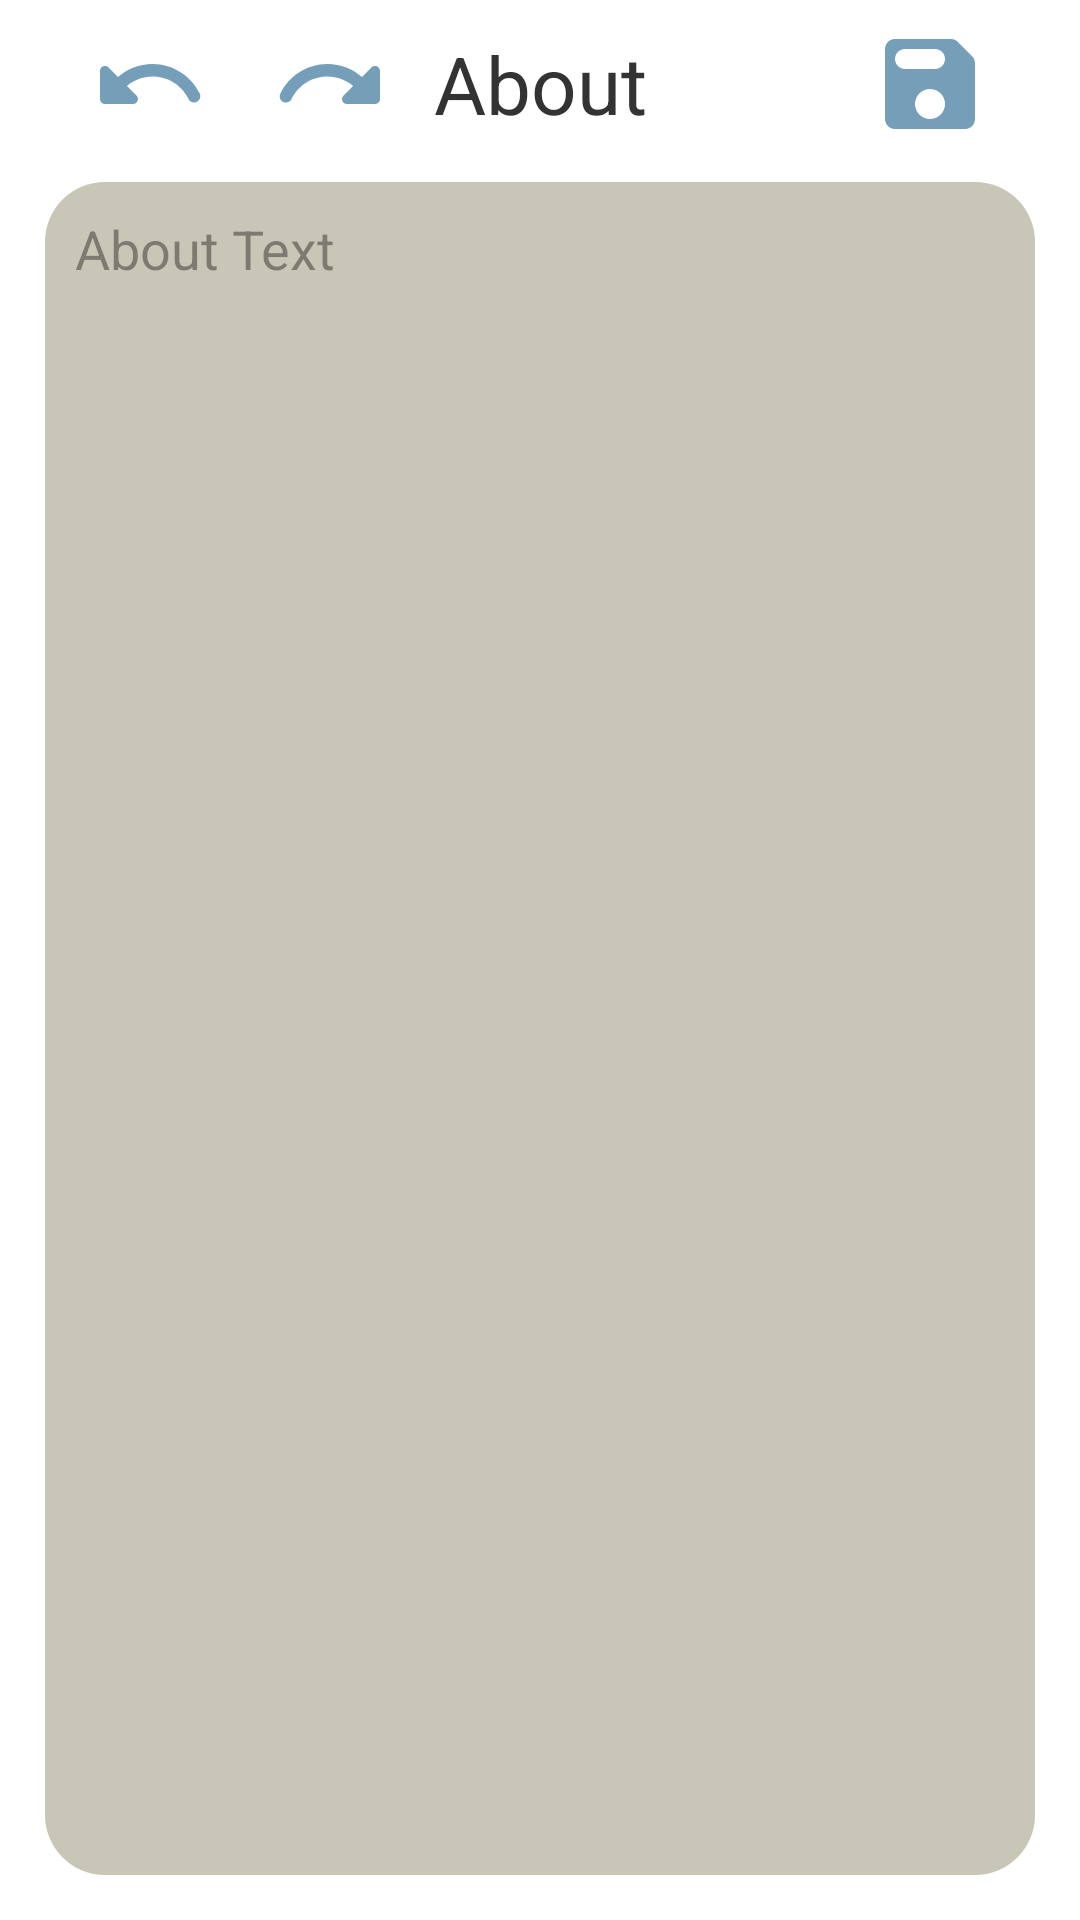

Icons on this 1080px x 1920px Android screen, each with its box as box=[x1, y1, x2, y2]:
redo: box=[279, 64, 380, 104]
save: box=[885, 39, 975, 129]
undo: box=[100, 64, 201, 104]
